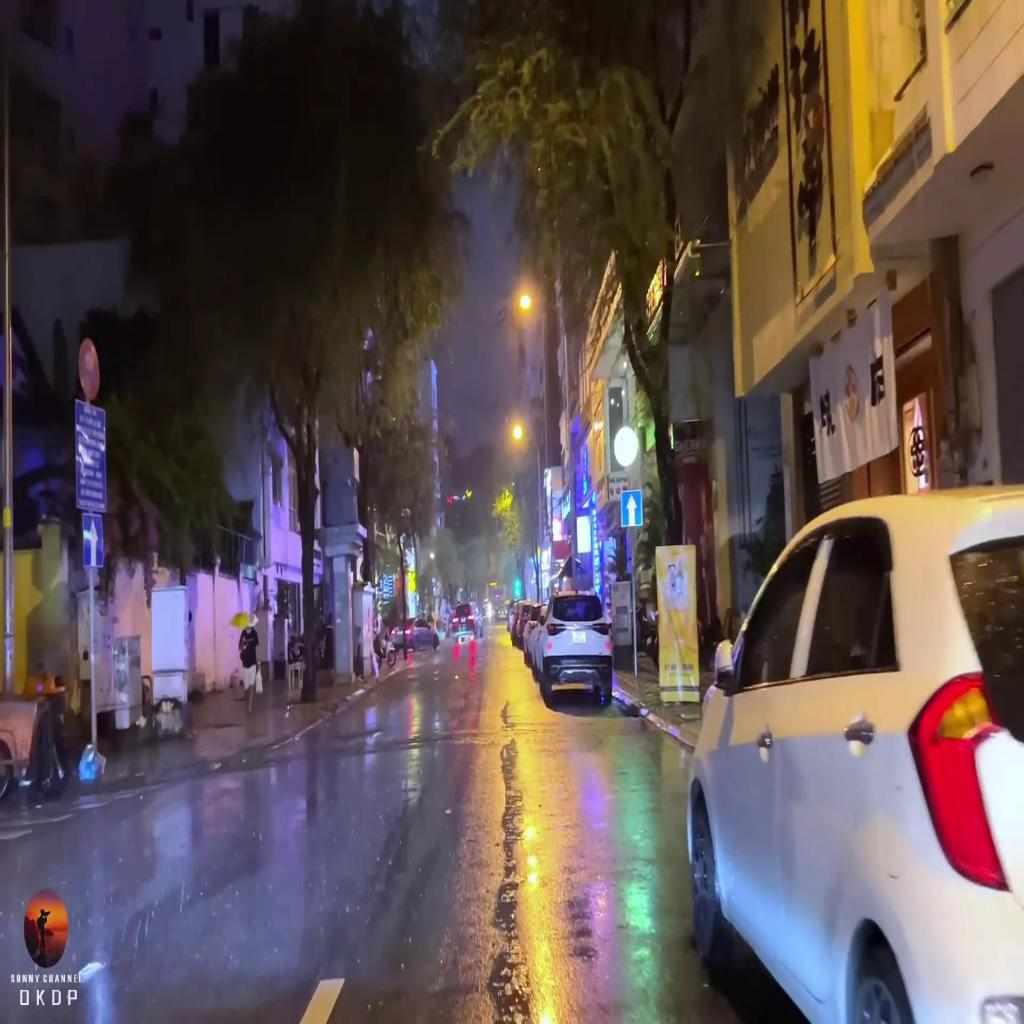cam_dung_xe_va_do_xe: (79, 337, 101, 401)
duong_mot_chieu: (82, 515, 104, 567), (620, 489, 642, 528)
khac: (74, 400, 106, 515)
